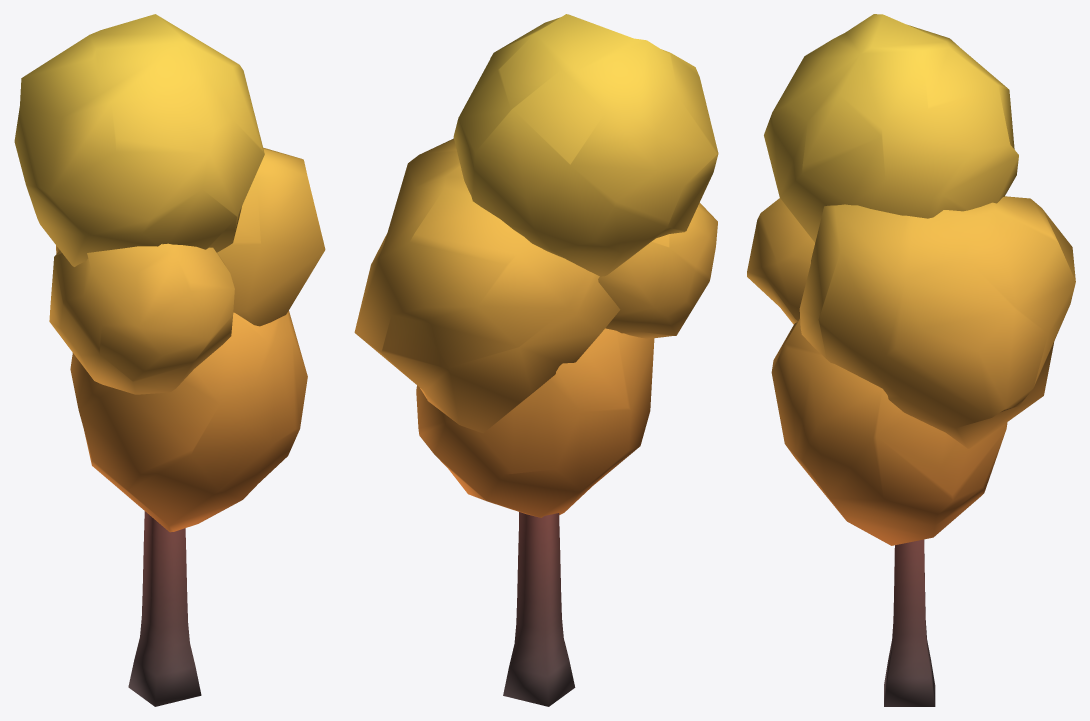
3 renders of one model, left to right at view 1: azimuth 30°, elevation 25°; view 2: azimuth 150°, elevation 25°; view 3: azimuth 270°, elevation 25°, orthographic. The views are drawn at different scales.
Visible parts, largest first — view 1: Vert.032-col; view 2: Vert.032-col; view 3: Vert.032-col.
Part boxes in pixels (<box>): Vert.032-col: <box>14,14,325,706</box>; Vert.032-col: <box>354,14,718,706</box>; Vert.032-col: <box>747,14,1075,706</box>.
Size of the model in its own units: 2.41 by 5.32 by 2.46.
Materials: 1 (1 with a texture image).
